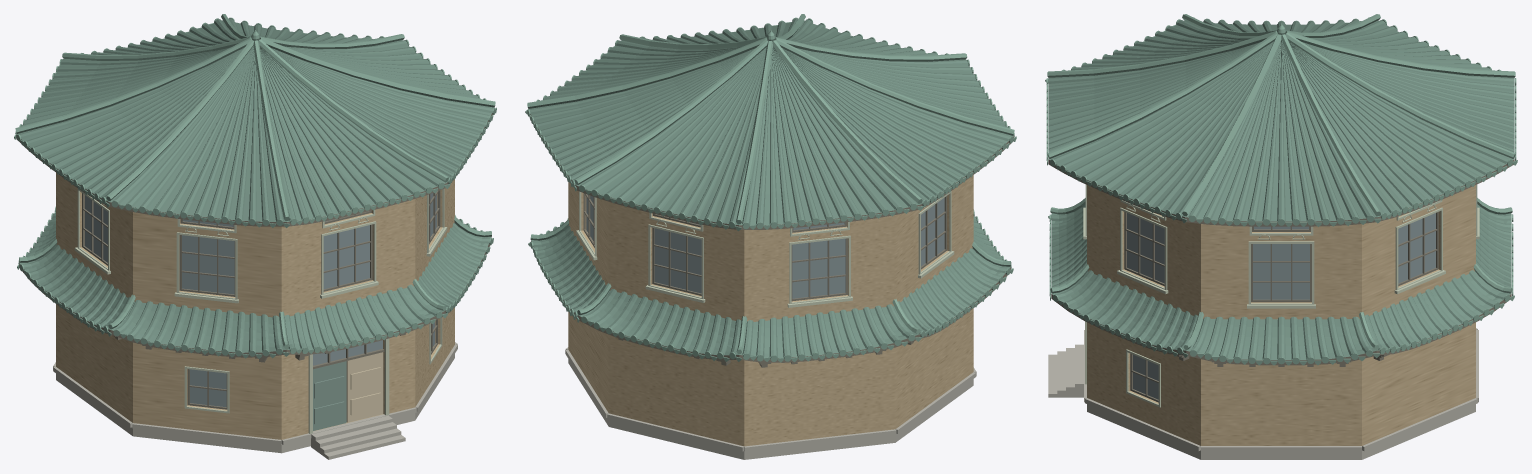
Rendered from jingan-xiaojiaojing-octagonal-library-lod.glb.
3 views of the same model, side by side, from view 1: azimuth 30°, elevation 25°; view 2: azimuth 150°, elevation 25°; view 3: azimuth 270°, elevation 25° (orthographic). The views are drawn at different scales.
Parts seen in each view (by area): view 1: 小校经阁八角藏书楼; view 2: 小校经阁八角藏书楼; view 3: 小校经阁八角藏书楼.
Part boxes in pixels (x1,y1,x2,y2): 小校经阁八角藏书楼: (14, 14, 496, 459); 小校经阁八角藏书楼: (525, 14, 1016, 459); 小校经阁八角藏书楼: (1045, 14, 1517, 459).
Size of the model in its own units: 13.83 by 11.42 by 13.83.
Materials: 10 (1 with a texture image).
